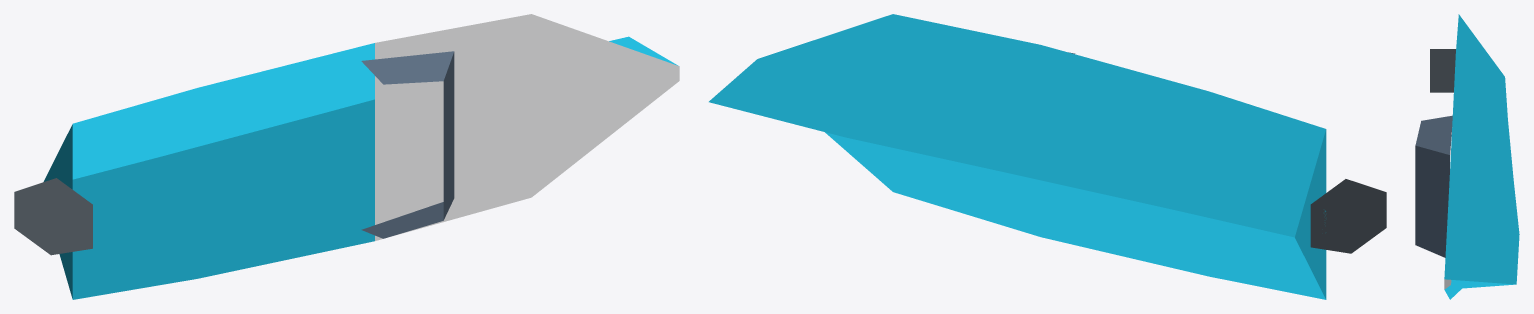
Rendered from motorboat.glb.
3 views of the same model, side by side, from view 1: azimuth 30°, elevation 25°; view 2: azimuth 150°, elevation 25°; view 3: azimuth 270°, elevation 25° (orthographic). The views are drawn at different scales.
Parts seen in each view (by area): view 1: RootVessel; view 2: RootVessel; view 3: RootVessel.
Part boxes in pixels (box(x1,y1,x2,y2)): RootVessel: box(14, 14, 679, 299); RootVessel: box(709, 14, 1386, 299); RootVessel: box(1415, 14, 1519, 299).
Bounding box in the file's own units: 9.1 × 2.7 × 1.8.
